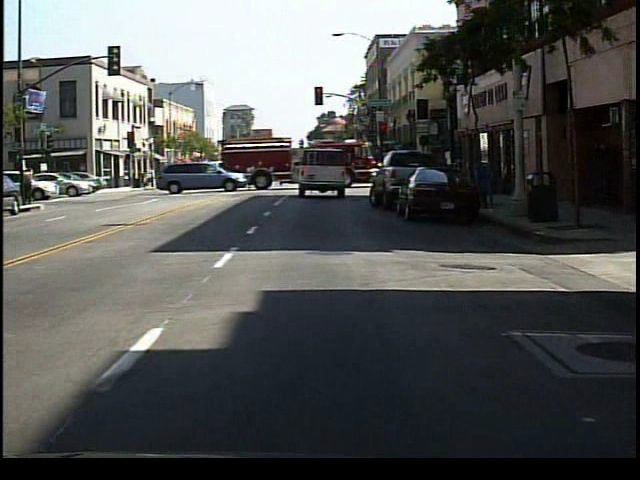person: (23, 165, 37, 207)
